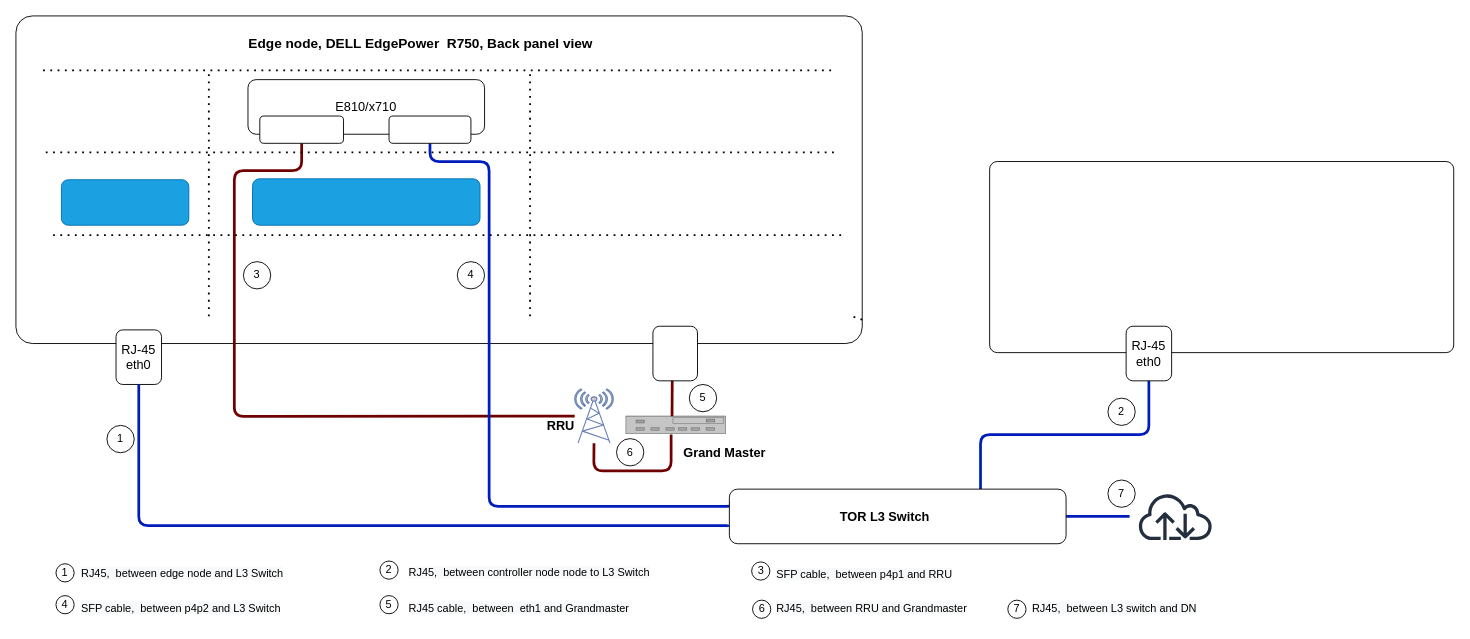
The diagram is 1470 pixels wide and 639 high, and some of its shapes have lost their labels. The box of each missing label's shape, as (x1, y1, x2, y2) in pixels:
ACC100 FEC Accelerator: (61, 179, 189, 225)
controller node, DELL EdgePower R750: (989, 161, 1454, 353)
Internet: (1129, 470, 1221, 562)
p4p1: (259, 115, 344, 143)
p4p2: (388, 115, 471, 143)
QAT Accelerator 8970: (252, 178, 480, 225)
RJ-45 eth1: (652, 325, 698, 381)
